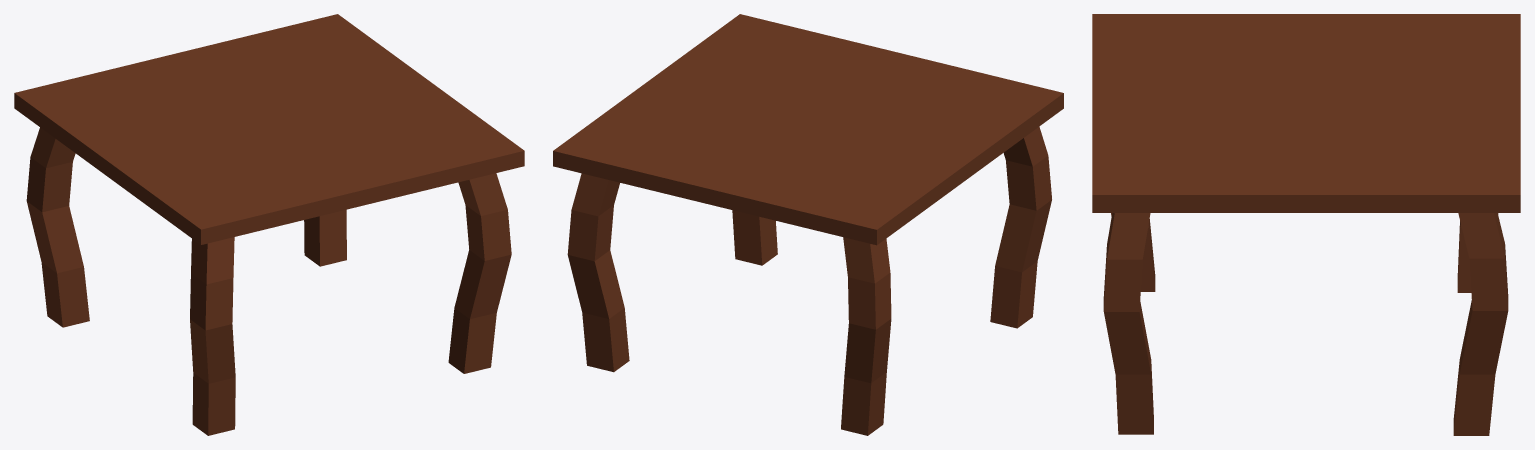
Rendered from VazeTable.fbx.
3 views of the same model, side by side, from view 1: azimuth 30°, elevation 25°; view 2: azimuth 150°, elevation 25°; view 3: azimuth 270°, elevation 25° (orthographic). The views are drawn at different scales.
Visible parts, largest first — view 1: Cube, Cube.001, Cube.003, Cube.004, Cube.002; view 2: Cube, Cube.002, Cube.004, Cube.003, Cube.001; view 3: Cube, Cube.002, Cube.001, Cube.003, Cube.004.
Boxes of the visible parts, x1=… form: Cube: x1=14, y1=14, x2=524, y2=244; Cube.001: x1=448, y1=173, x2=511, y2=373; Cube.003: x1=190, y1=237, x2=235, y2=435; Cube.004: x1=26, y1=127, x2=89, y2=327; Cube.002: x1=304, y1=209, x2=346, y2=266; Cube: x1=553, y1=14, x2=1063, y2=245; Cube.002: x1=567, y1=173, x2=629, y2=372; Cube.004: x1=841, y1=237, x2=891, y2=435; Cube.003: x1=990, y1=126, x2=1051, y2=328; Cube.001: x1=732, y1=210, x2=777, y2=265; Cube: x1=1092, y1=14, x2=1520, y2=212; Cube.002: x1=1453, y1=213, x2=1508, y2=435; Cube.001: x1=1103, y1=213, x2=1153, y2=434; Cube.003: x1=1111, y1=213, x2=1155, y2=291; Cube.004: x1=1457, y1=213, x2=1498, y2=292.
Size of the model in its own units: 1200 by 779 by 1200.
